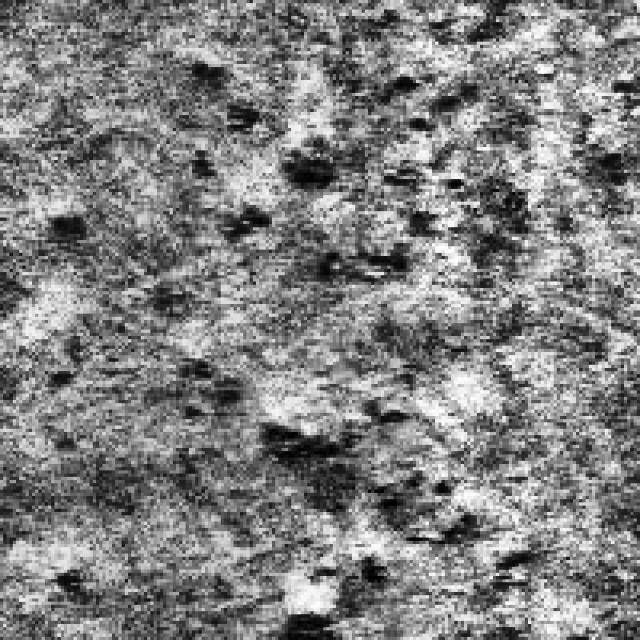Crazing: (204, 358, 516, 630), (253, 86, 477, 288)
